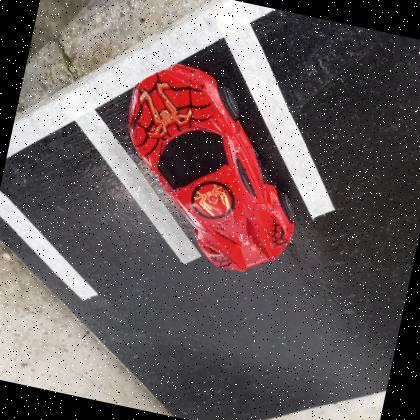Car: (125, 60, 295, 271)
